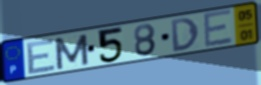5: (95, 25, 126, 65)
8: (133, 23, 158, 58)
D: (169, 16, 201, 53)
E: (201, 8, 235, 50), (26, 37, 58, 76)
M: (52, 32, 91, 71)
